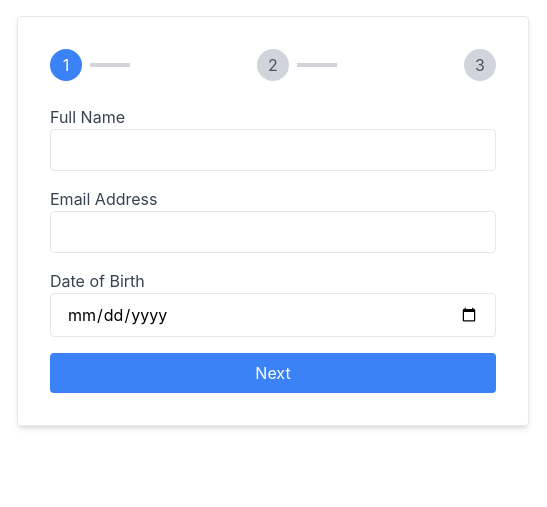
MultiStepForm Tests › displays validation errors if required fields are empty
Note: Klik tombol "Next" tanpa mengisi input untuk melihat validasi error
Click the button "Next" at (273, 373), box x1=50 y1=353 x2=496 y2=393
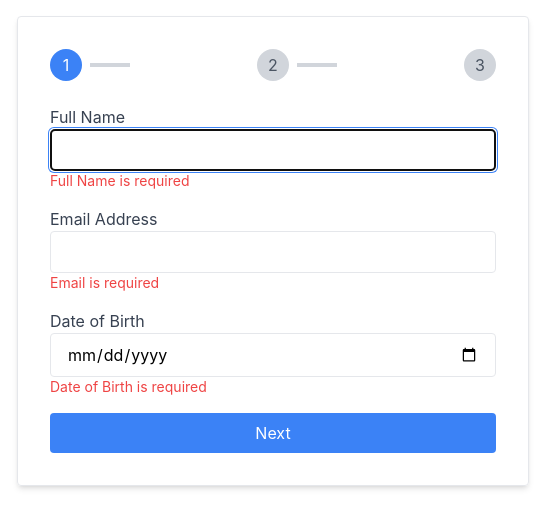
Expected: the text "Full Name is required" is shown, x1=50 y1=172 x2=190 y2=189
Expected: the text "Email is required" is shown, x1=50 y1=274 x2=159 y2=291
Expected: the text "Date of Birth is required" is shown, x1=50 y1=378 x2=207 y2=395
